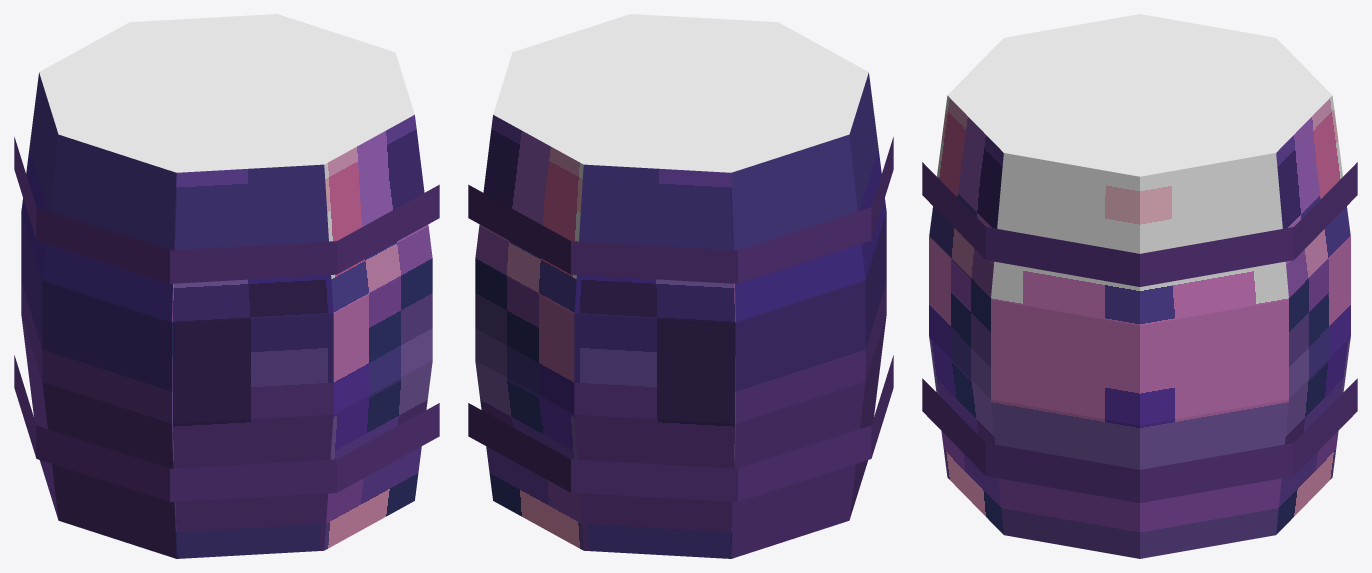
File: crystal_pillar.glb
3 renders of one model, left to right at view 1: azimuth 30°, elevation 25°; view 2: azimuth 150°, elevation 25°; view 3: azimuth 270°, elevation 25°, orthographic.
Visible parts, largest first — view 1: crystal_pillar; view 2: crystal_pillar; view 3: crystal_pillar.
Part boxes in pixels (x1,y1,x2,y2): crystal_pillar: (14, 14, 439, 558); crystal_pillar: (468, 14, 893, 558); crystal_pillar: (922, 14, 1357, 558).
Bounding box in the file's own units: 1 × 0.9684 × 1.
1 material, 1 textured.
